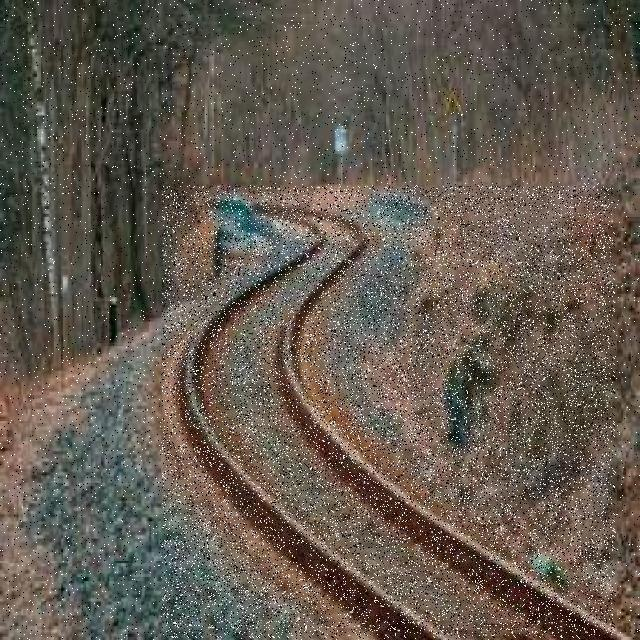rail: (163, 188, 615, 638)
